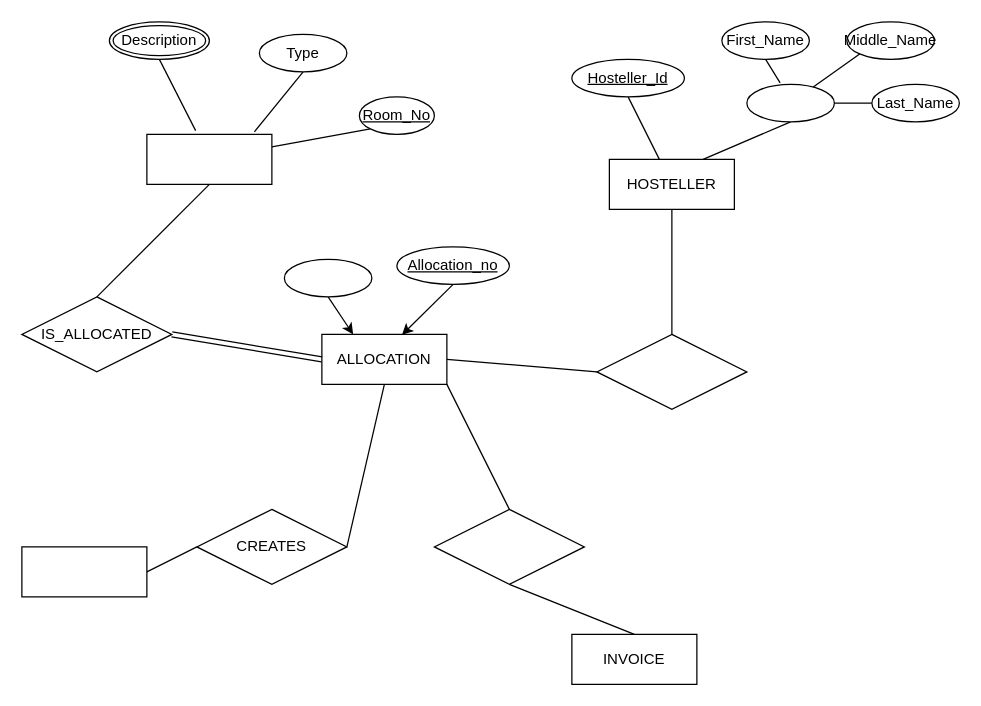
The diagram is 981 pixels wide and 706 high, and some of its shapes have lost their labels. Each missing label, with the centre of its shape:
"Date" belongs at pixel 327 277.
"GENERATES" belongs at pixel 508 546.
"GETS" belongs at pixel 671 371.
"Name" belongs at pixel 790 102.
"ROOM" belongs at pixel 209 158.
"STAFF" belongs at pixel 84 571.
